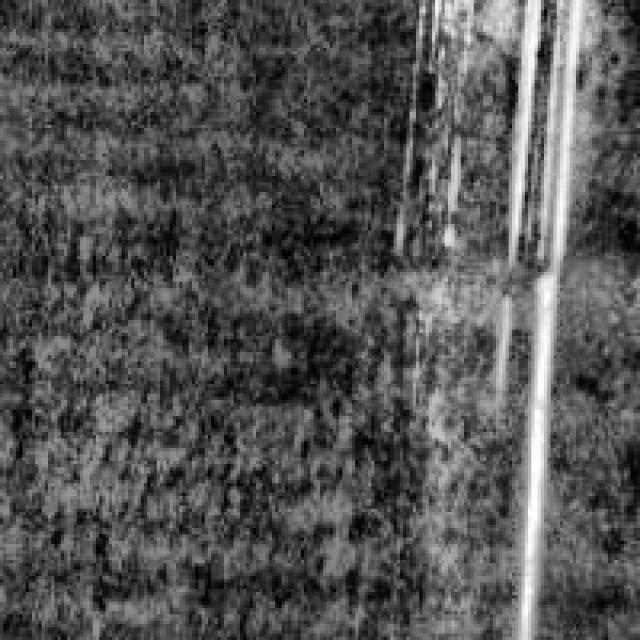Inclusion: (489, 0, 582, 630)
